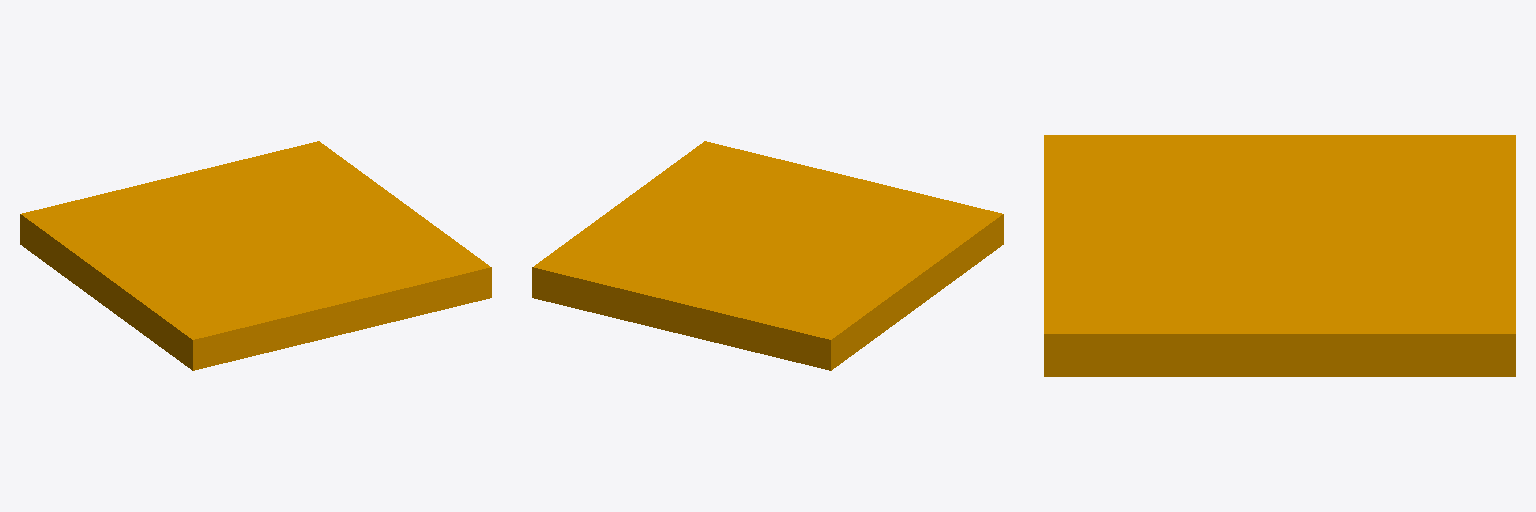
The robot description file, URDF, robot "apriltag_4_3611":
<robot name="apriltag_4_3611">

    <link name="apriltag_link_id4">
        <inertial>
            <origin xyz="0 0 0" rpy="0 0 0"/>
            <mass value="1.0"/>
            <inertia ixx="0.07461" ixy="0.0" ixz="0.0" iyy="0.5854" iyz="0.0" izz="0.02641"/>
        </inertial>
        <collision>
            <origin xyz="0 0 0" rpy="0 0 0"/>
            <geometry>
                <box size="0.2 0.2 0.1"/>
            </geometry>
        </collision>
        <visual>
            <origin xyz="0 0 0" rpy="0 0 0"/>
            <geometry>
                <mesh filename="package://apriltag_description/meshes/apriltag_4.dae"/>
            </geometry>
        </visual>
    </link>
    
    <gazebo reference="apriltag_link_id4">
        <kp>100000.0</kp>
        <kd>100000.0</kd>
        <mu1>0.1</mu1>
        <mu2>0.1</mu2>  
        <fdir1>1 0 0</fdir1>

           <!-- this tag may be unecessary if static is set to true
            (but using since may set static to false later)-->
        <gravity>0</gravity>
    </gazebo>

    <!-- Make sure that the reference="" attribute is not specified -->
    <gazebo>
        <static>true</static>
     
        
    </gazebo>
    

</robot>

--- Facts derived from the render (not from the file) ---
Views: 3 orthographic renders of the robot side by side, from view 1: azimuth 30°, elevation 25°; view 2: azimuth 150°, elevation 25°; view 3: azimuth 270°, elevation 25°.
Model apriltag_4_3611 with 1 links and 0 joints (none), rooted at apriltag_link_id4, posed every joint at zero.
Links seen in each view (by area): view 1: apriltag_link_id4; view 2: apriltag_link_id4; view 3: apriltag_link_id4.
Link boxes in pixels (x1,y1,x2,y2): apriltag_link_id4: (20,141,491,370); apriltag_link_id4: (532,141,1003,370); apriltag_link_id4: (1044,135,1515,376).
Bounding box of the posed robot: 0.16 × 0.16 × 0.0158 m (x, y, z).
Meshes: 1 distinct files referenced, 1 mesh visuals loaded (1 Collada DAE).